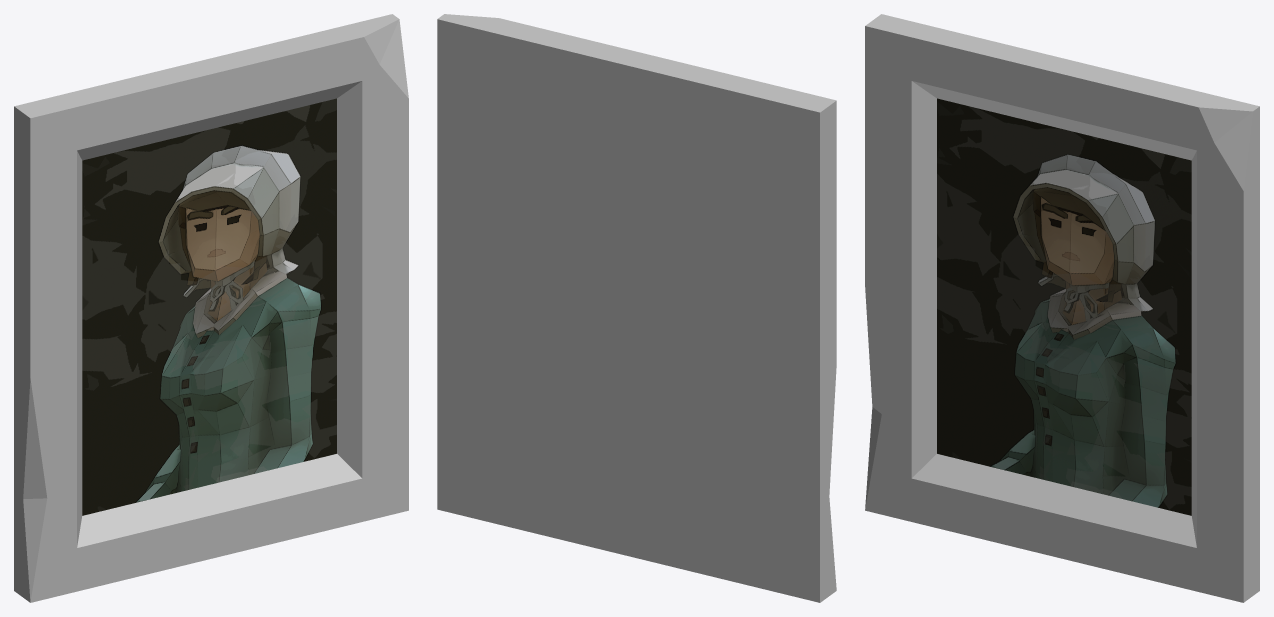
Rendered from SM_Prop_Picture_Frame_05.fbx.
3 views of the same model, side by side, from view 1: azimuth 30°, elevation 25°; view 2: azimuth 150°, elevation 25°; view 3: azimuth 330°, elevation 25° (orthographic).
Parts seen in each view (by area): view 1: SM_Prop_Picture_Frame_05; view 2: SM_Prop_Picture_Frame_05; view 3: SM_Prop_Picture_Frame_05.
Part boxes in pixels (left/top/right/bottom): SM_Prop_Picture_Frame_05: left=14, top=14, right=408, bottom=602; SM_Prop_Picture_Frame_05: left=437, top=14, right=836, bottom=602; SM_Prop_Picture_Frame_05: left=865, top=14, right=1259, bottom=602.
Size of the model in its own units: 29.01 by 35.5 by 2.18.
